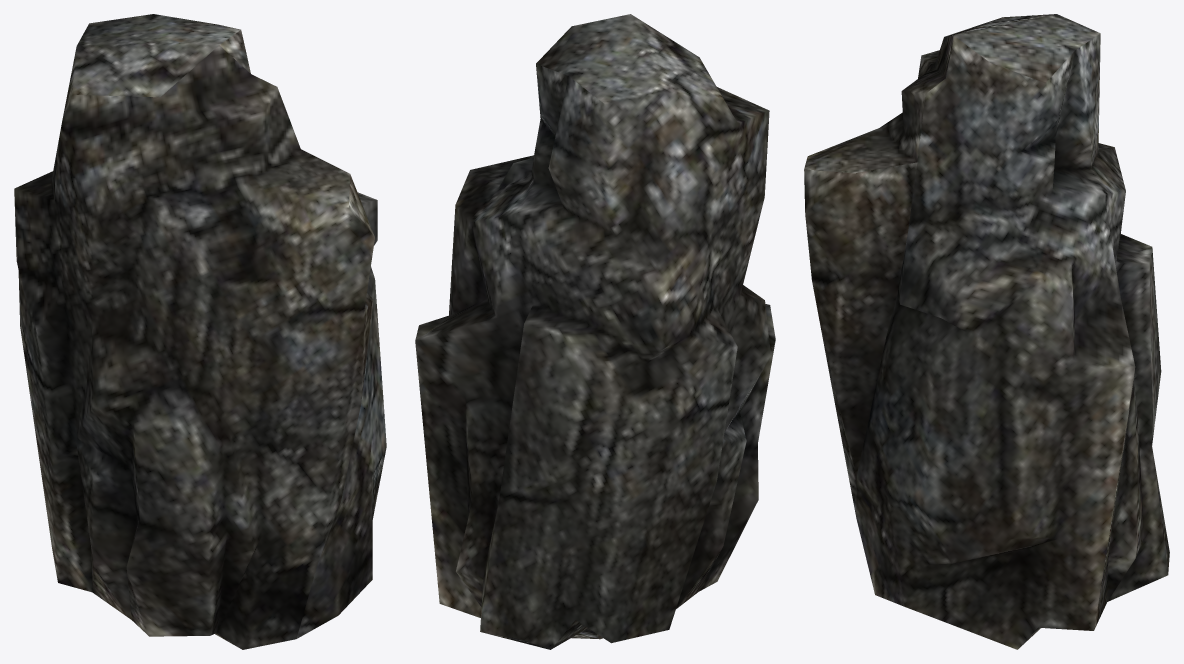
File: Rock7.fbx
3 renders of one model, left to right at view 1: azimuth 30°, elevation 25°; view 2: azimuth 150°, elevation 25°; view 3: azimuth 270°, elevation 25°, orthographic. The views are drawn at different scales.
Parts seen in each view (by area): view 1: Group46932; view 2: Group46932; view 3: Group46932.
Part boxes in pixels (x1,y1,x2,y2): Group46932: (14, 14, 386, 649); Group46932: (415, 14, 775, 649); Group46932: (804, 14, 1169, 649).
Bounding box in the file's own units: 2.55 × 4.82 × 2.81.
